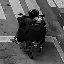motor: (16, 9, 45, 55)
